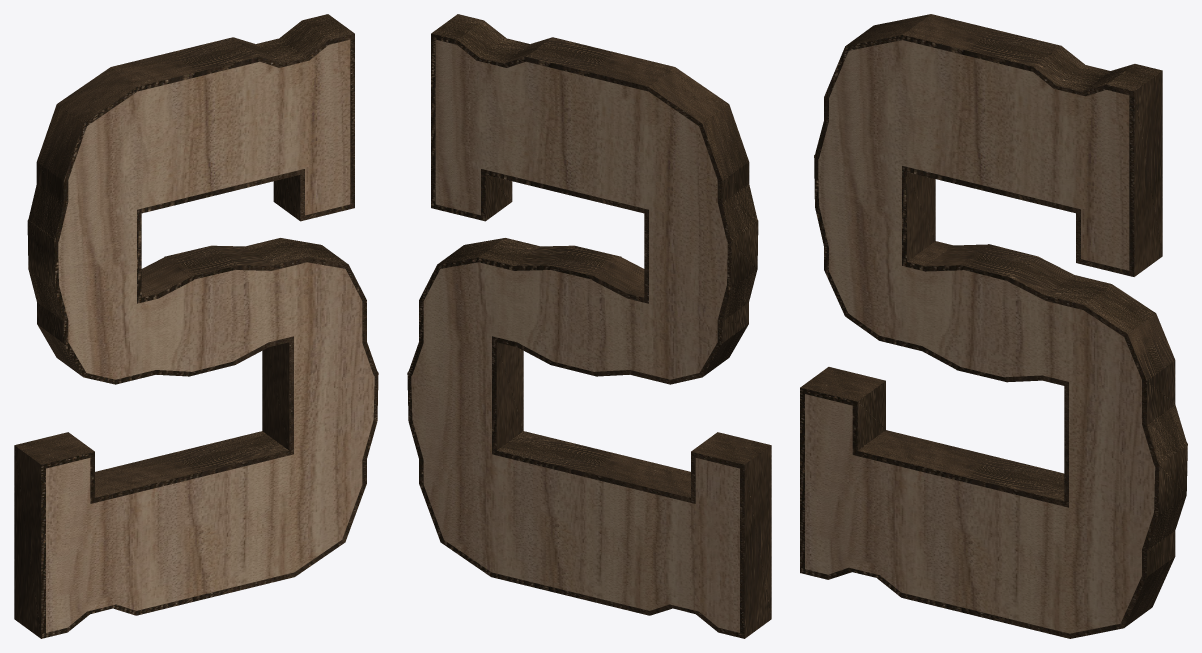
The picture shows the model from 3 angles, left to right: view 1: azimuth 30°, elevation 25°; view 2: azimuth 150°, elevation 25°; view 3: azimuth 330°, elevation 25°; orthographic projection. The views are drawn at different scales.
Parts seen in each view (by area): view 1: S, S_outline; view 2: S, S_outline; view 3: S, S_outline.
Part boxes in pixels (box(x1,y1,x2,y2)): S: box(46, 39, 374, 632); S_outline: box(14, 14, 378, 638); S: box(411, 39, 739, 632); S_outline: box(407, 14, 771, 638); S: box(805, 40, 1155, 633); S_outline: box(800, 14, 1187, 638).
Size of the model in its own units: 72.62 by 109 by 10.
Materials: 2 (2 with a texture image).
